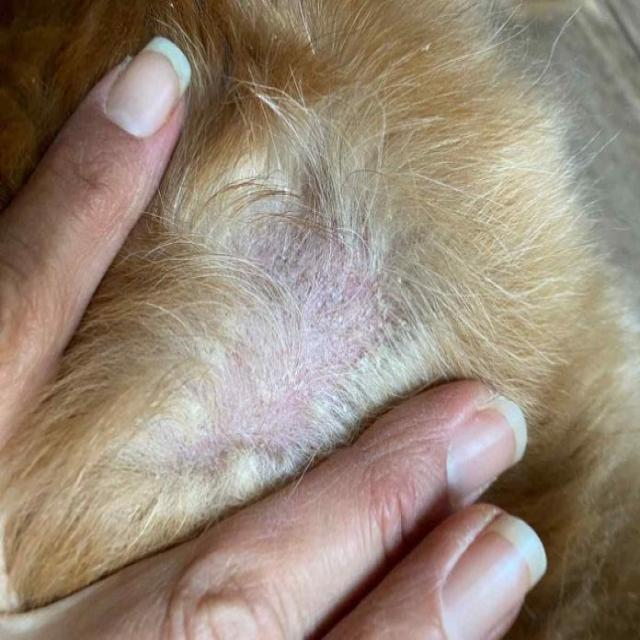fungal infection: (225, 208, 409, 358), (158, 344, 329, 450)
